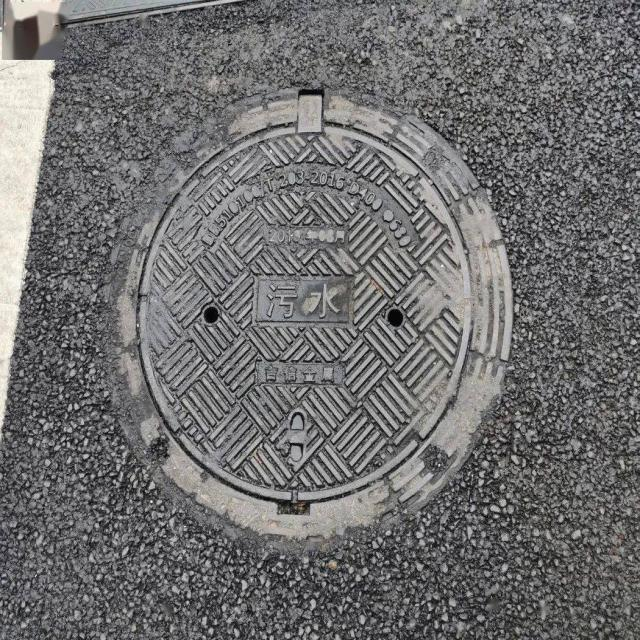manhole: (112, 86, 515, 556)
